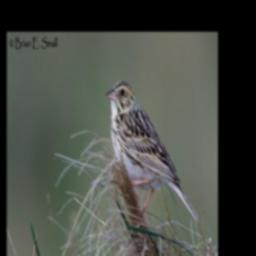Sparrow: (105, 79, 199, 223)
